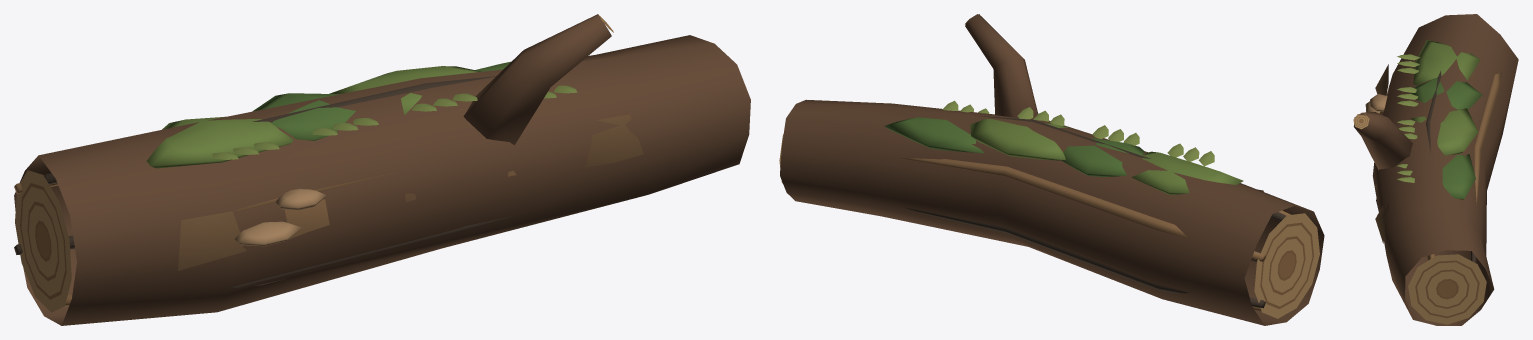
File: woodland_fallen_log.hi.glb
The picture shows the model from 3 angles, left to right: view 1: azimuth 30°, elevation 25°; view 2: azimuth 150°, elevation 25°; view 3: azimuth 270°, elevation 25°; orthographic projection. The views are drawn at different scales.
Parts seen in each view (by area): view 1: body; view 2: body; view 3: body.
Part boxes in pixels (<box>): body: <box>14,14,750,325</box>; body: <box>779,14,1324,325</box>; body: <box>1353,14,1518,325</box>.
Size of the model in its own units: 1.97 by 0.7025 by 0.6191.
